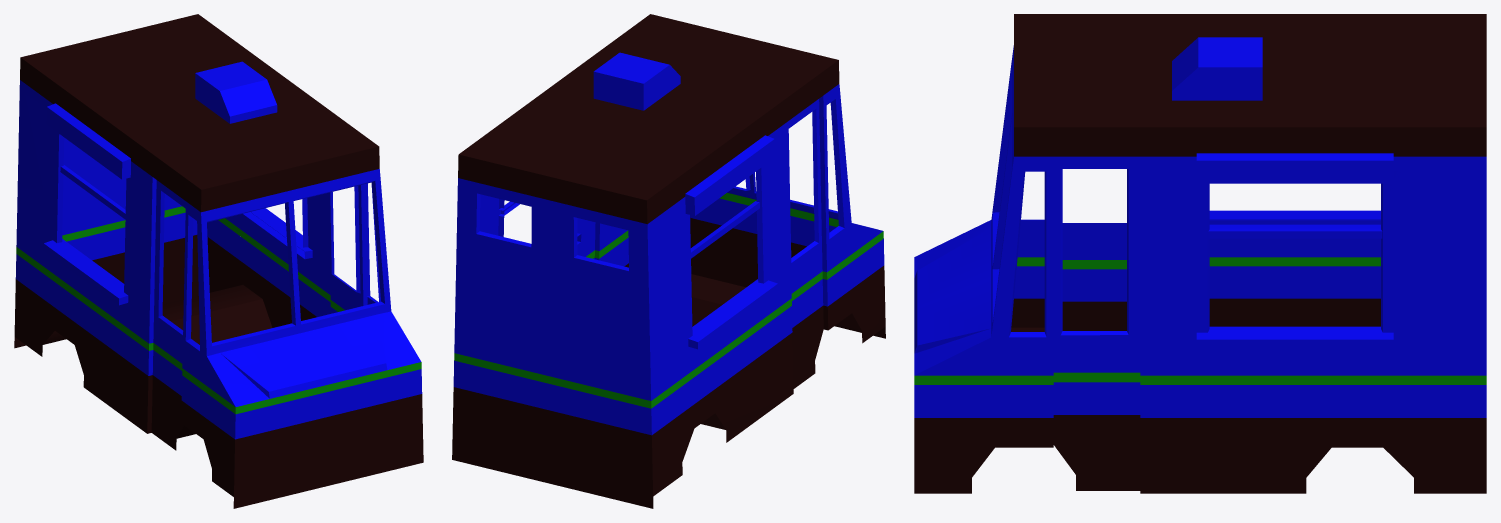
Rendered from Car3Body.fbx.
The picture shows the model from 3 angles, left to right: view 1: azimuth 30°, elevation 25°; view 2: azimuth 150°, elevation 25°; view 3: azimuth 270°, elevation 25°; orthographic projection. The views are drawn at different scales.
Visible parts, largest first — view 1: Car3Body; view 2: Car3Body; view 3: Car3Body.
Part boxes in pixels (box(x1,y1,x2,y2)): Car3Body: box(14, 14, 423, 508); Car3Body: box(452, 14, 885, 508); Car3Body: box(914, 14, 1486, 493).
Size of the model in its own units: 2.92 by 4.33 by 5.47.
